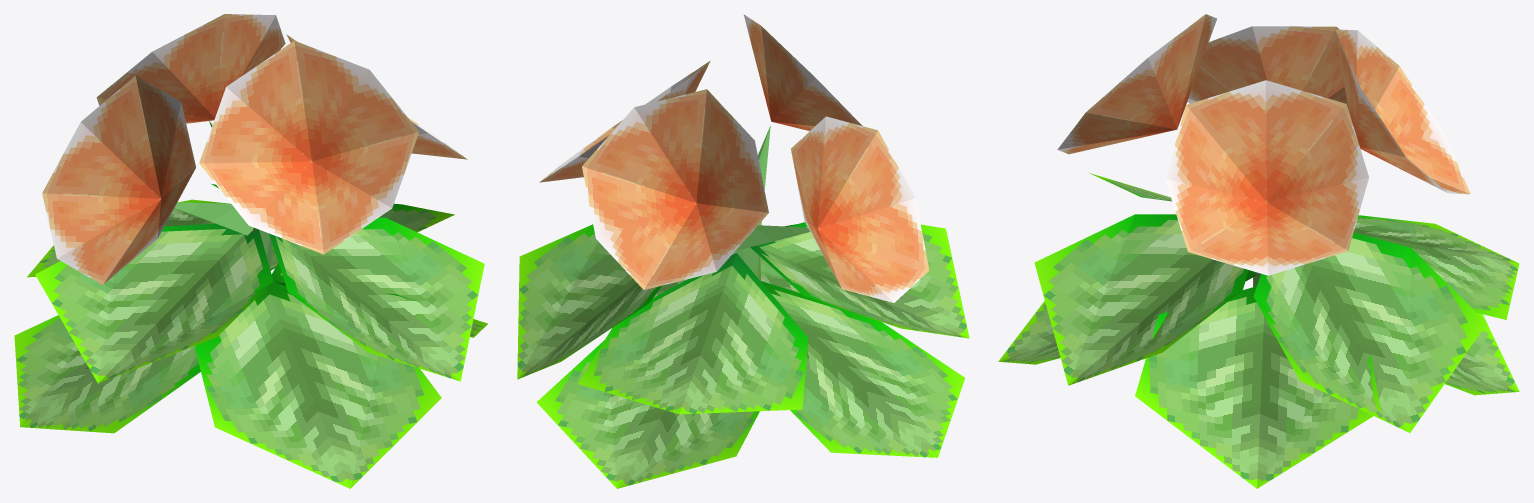
File: flowerorange_bake.dae
3 views of the same model, side by side, from view 1: azimuth 30°, elevation 25°; view 2: azimuth 150°, elevation 25°; view 3: azimuth 270°, elevation 25° (orthographic). The views are drawn at different scales.
Parts seen in each view (by area): view 1: m0, m0_VC; view 2: m0, m0_VC; view 3: m0, m0_VC.
Part boxes in pixels (bbox=[...]): m0: bbox=[16, 14, 483, 481]; m0_VC: bbox=[14, 14, 487, 488]; m0: bbox=[517, 19, 966, 485]; m0_VC: bbox=[517, 14, 969, 488]; m0: bbox=[1003, 14, 1517, 480]; m0_VC: bbox=[998, 15, 1519, 488].
Size of the model in its own units: 65.2 by 53.04 by 66.09.
